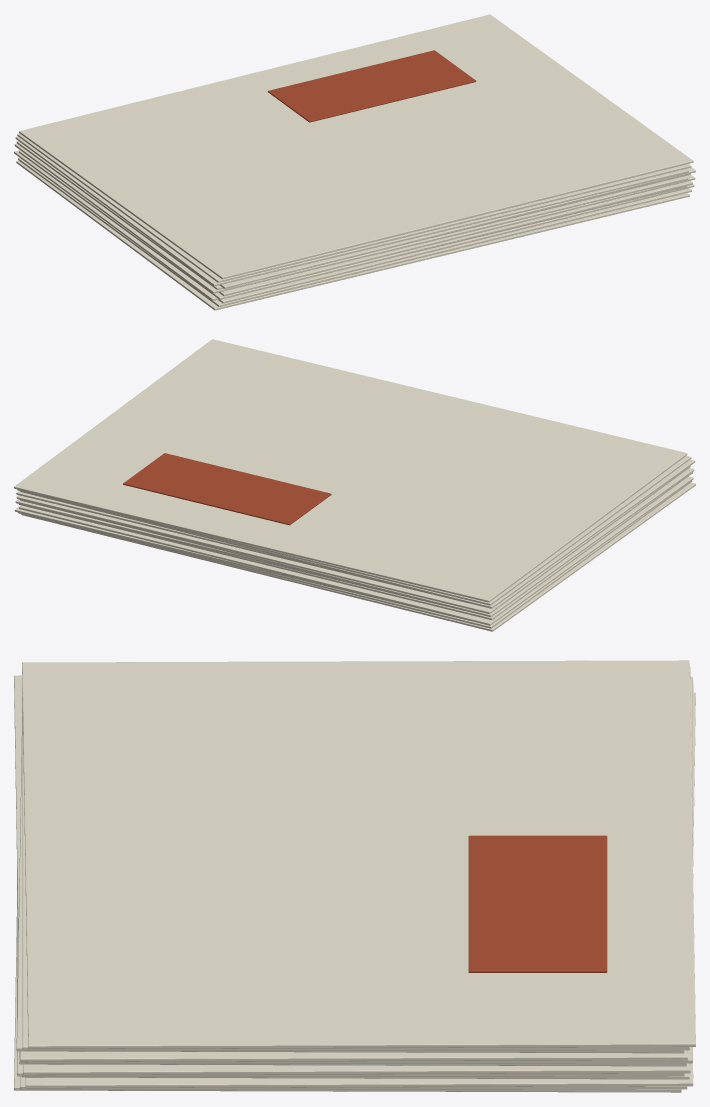
The model's file is A17_PaperStack.fbx.
3 renders of one model, top to bottom at view 1: azimuth 30°, elevation 25°; view 2: azimuth 150°, elevation 25°; view 3: azimuth 270°, elevation 25°, orthographic. The views are drawn at different scales.
Visible parts, largest first — view 1: PaperStack_Paper, PaperStack_Tab; view 2: PaperStack_Paper, PaperStack_Tab; view 3: PaperStack_Paper, PaperStack_Tab.
Boxes of the visible parts, bbox=[...] form: PaperStack_Paper: bbox=[14, 14, 695, 310]; PaperStack_Tab: bbox=[267, 50, 476, 122]; PaperStack_Paper: bbox=[14, 339, 695, 631]; PaperStack_Tab: bbox=[123, 453, 331, 525]; PaperStack_Paper: bbox=[14, 660, 695, 1092]; PaperStack_Tab: bbox=[468, 835, 607, 972].
Size of the model in its own units: 34.57 by 2.38 by 25.54.
